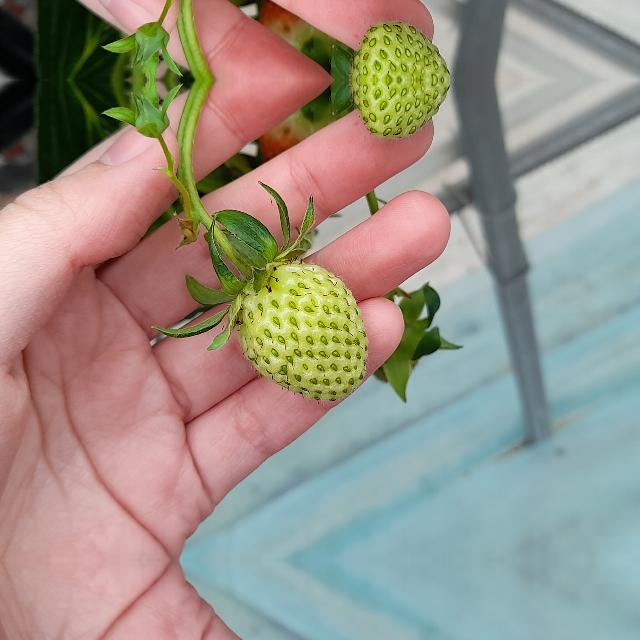Health_25: (236, 260, 368, 400)
